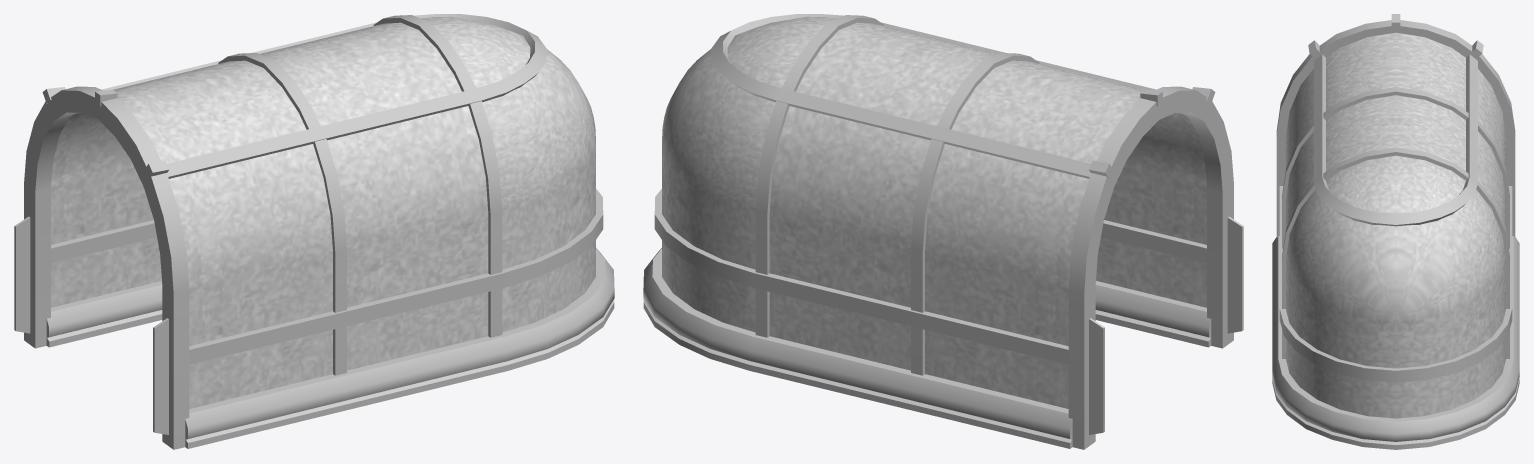
The model's file is pref_sm_garden_bornhouse04_lv3.fbx.
3 views of the same model, side by side, from view 1: azimuth 30°, elevation 25°; view 2: azimuth 150°, elevation 25°; view 3: azimuth 270°, elevation 25° (orthographic). The views are drawn at different scales.
Visible parts, largest first — view 1: pref_sm_garden_bornhouse04_lv3; view 2: pref_sm_garden_bornhouse04_lv3; view 3: pref_sm_garden_bornhouse04_lv3.
Part boxes in pixels (box(x1,y1,x2,y2)): pref_sm_garden_bornhouse04_lv3: box(14, 14, 614, 449); pref_sm_garden_bornhouse04_lv3: box(643, 14, 1243, 449); pref_sm_garden_bornhouse04_lv3: box(1272, 14, 1519, 449).
Bounding box in the file's own units: 12.04 × 6.73 × 6.28.
